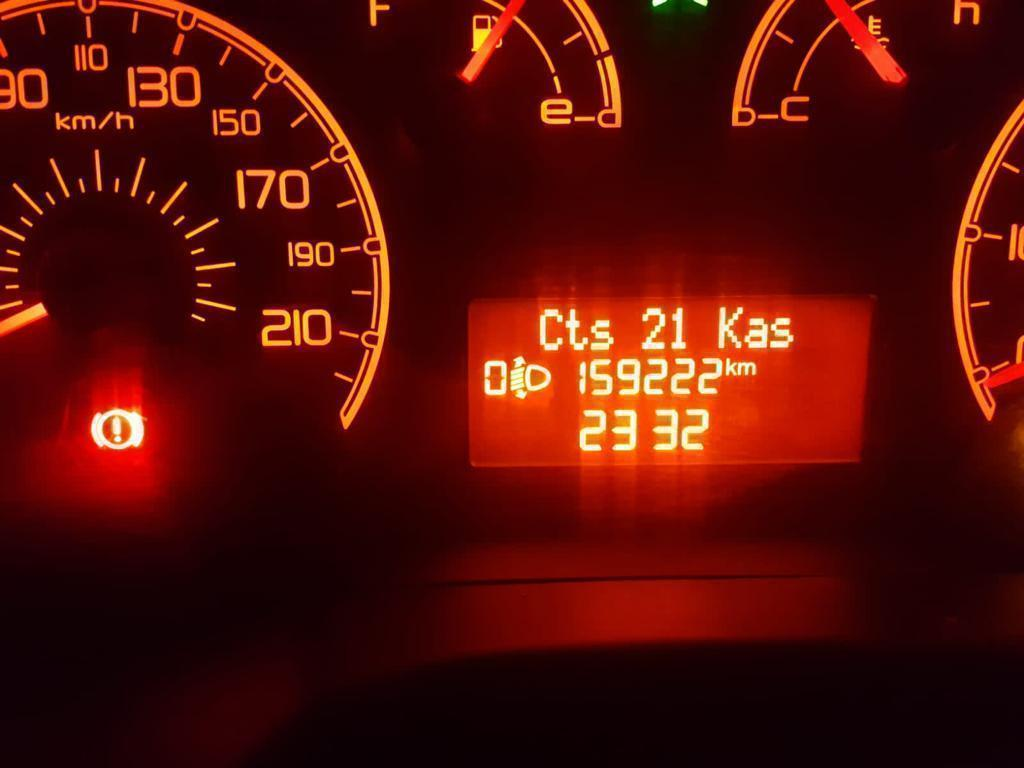0: (483, 359, 507, 396)
1: (670, 306, 687, 350), (577, 360, 587, 394)
2: (680, 408, 710, 451), (578, 408, 607, 452), (640, 307, 666, 350), (696, 357, 723, 395), (669, 357, 696, 395), (642, 357, 668, 395)
3: (650, 408, 679, 451), (610, 408, 638, 451)
5: (588, 357, 614, 396)
9: (615, 358, 641, 395)
X: (538, 307, 564, 351), (717, 306, 743, 349), (564, 307, 588, 351), (589, 318, 615, 351), (769, 316, 795, 348), (743, 317, 768, 349), (737, 361, 758, 376), (724, 356, 737, 376)
odometer: (460, 291, 875, 475)
